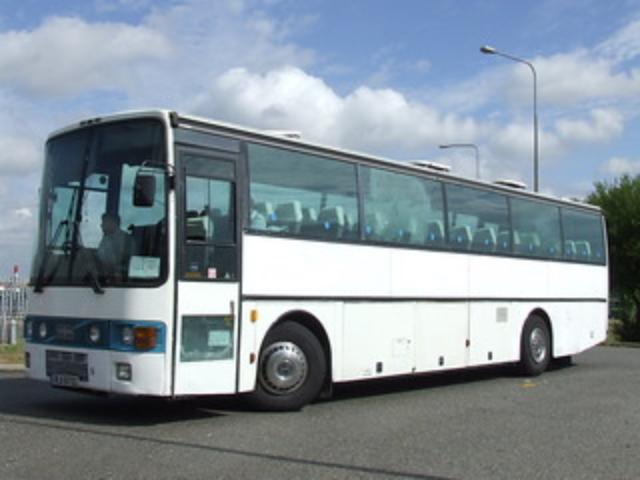bus: (24, 110, 610, 412)
